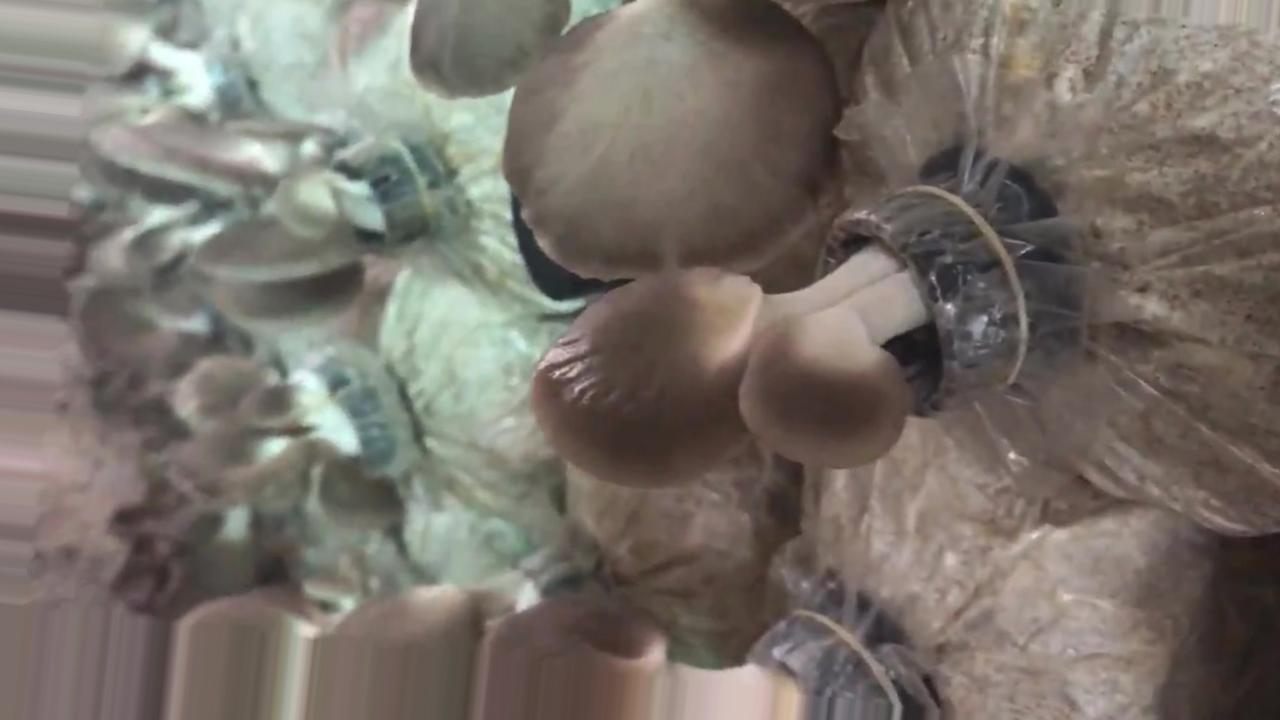nam: (530, 173, 1060, 498), (408, 1, 855, 285), (166, 606, 896, 720), (80, 113, 418, 342), (153, 341, 448, 534)
